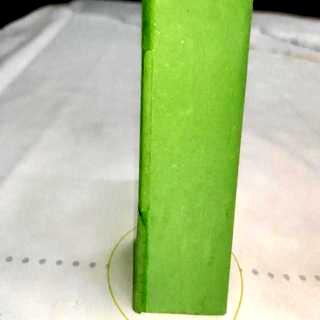greenbox: (130, 0, 258, 320)
